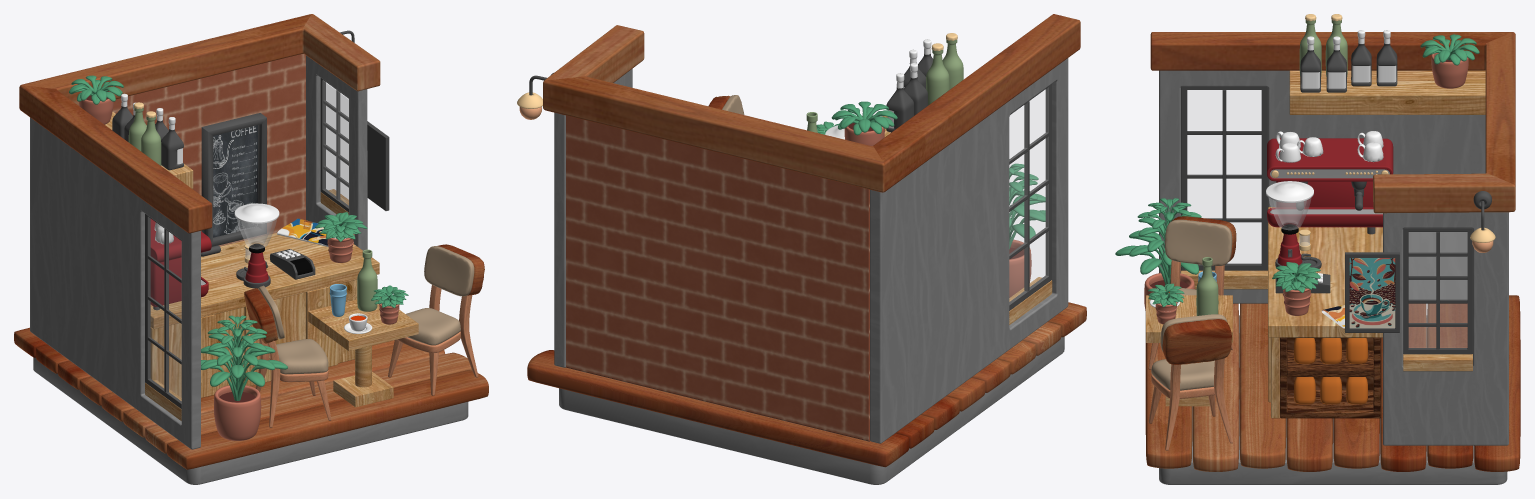
3 renders of one model, left to right at view 1: azimuth 30°, elevation 25°; view 2: azimuth 150°, elevation 25°; view 3: azimuth 270°, elevation 25°, orthographic. The views are drawn at different scales.
Parts seen in each view (by area): view 1: Plane.004, Plane.005, Base, Plane.002, Plane.001, Plane.009, Plane.176, Plane.003, Plane.029, Plane.190, Frame_2, Plane.027 (+31 smaller); view 2: Plane.002, Plane.004, Plane.005, Base, Plane.001, Plane.029, Plane.003, Plane.008, Plane.034, Plane.188, Circle.043, Plane.028 (+4 smaller); view 3: Base, Plane.005, Plane.004, Plane.003, Plane.029, Table_Side_2, Plane.009, Plane.001, Plane.027, stand, Plane.191, Plane.037 (+40 smaller).
Part boxes in pixels (box(x1,y1,x2,y2)): Plane.004: box(30, 117, 200, 449); Plane.005: box(19, 14, 380, 233); Base: box(14, 327, 488, 469); Plane.002: box(112, 54, 305, 246); Plane.001: box(33, 357, 468, 484); Plane.009: box(150, 223, 379, 328); Plane.176: box(150, 280, 357, 397); Plane.003: box(306, 55, 367, 250); Plane.029: box(148, 217, 181, 403); Plane.190: box(213, 125, 257, 237); Frame_2: box(201, 113, 266, 246); Plane.027: box(322, 80, 348, 208); Plane.002: box(566, 115, 869, 441); Plane.004: box(870, 58, 1068, 443); Plane.005: box(543, 14, 1080, 192); Base: box(527, 302, 1086, 467); Plane.001: box(559, 337, 1064, 484); Plane.029: box(1009, 87, 1048, 304); Plane.003: box(554, 69, 632, 367); Plane.008: box(1009, 84, 1051, 310); Plane.034: box(1024, 101, 1029, 291); Plane.188: box(886, 73, 913, 132); Circle.043: box(926, 49, 949, 105); Plane.028: box(1009, 277, 1052, 324); Base: box(1145, 295, 1520, 471); Plane.005: box(1150, 32, 1515, 213); Plane.004: box(1159, 70, 1485, 303); Plane.003: box(1383, 212, 1508, 445); Plane.029: box(1187, 90, 1261, 263); Table_Side_2: box(1289, 70, 1485, 114); Plane.009: box(1268, 207, 1382, 337); Plane.001: box(1159, 315, 1507, 484); Plane.027: box(1409, 232, 1467, 347); stand: box(1280, 337, 1380, 418); Plane.191: box(1349, 258, 1395, 328); Plane.037: box(1267, 138, 1393, 181).
Size of the model in its own units: 9.5 by 8.58 by 9.31.
Materials: 35 (11 with a texture image).
